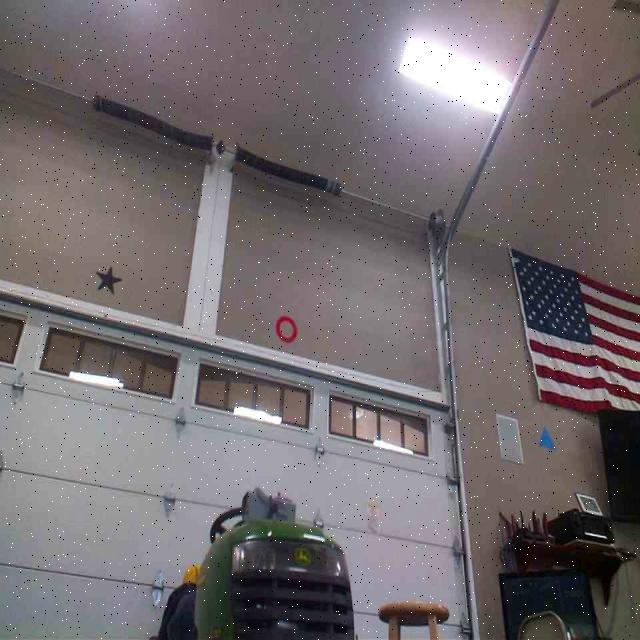ring_red: (274, 314, 296, 342)
star_black: (94, 263, 122, 294)
triangle_blue: (537, 426, 556, 450)
